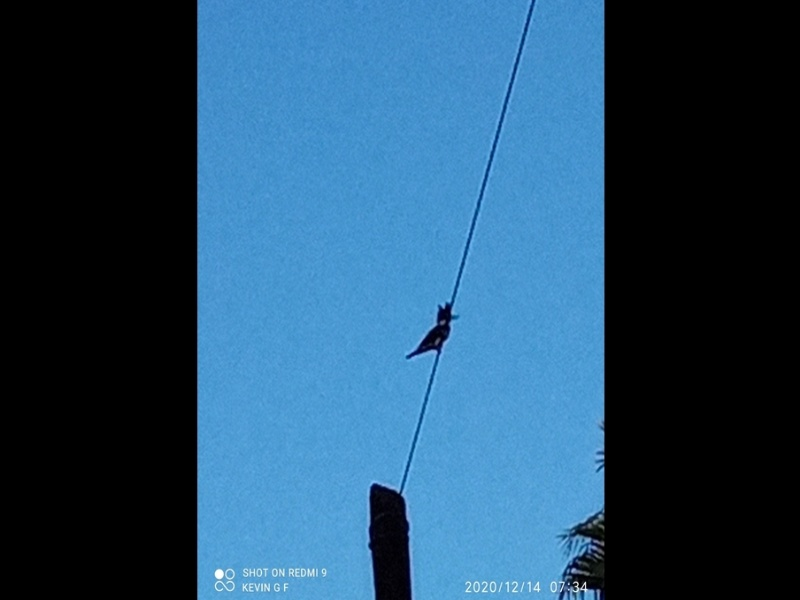kingfisher: (404, 303, 464, 358)
